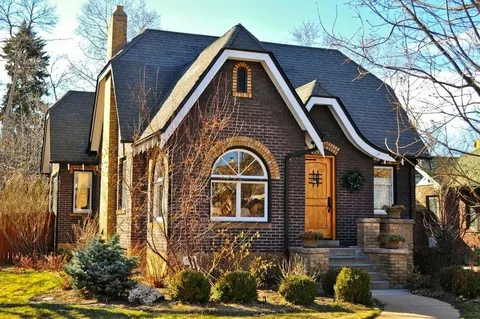private_hause: (44, 6, 428, 285)
